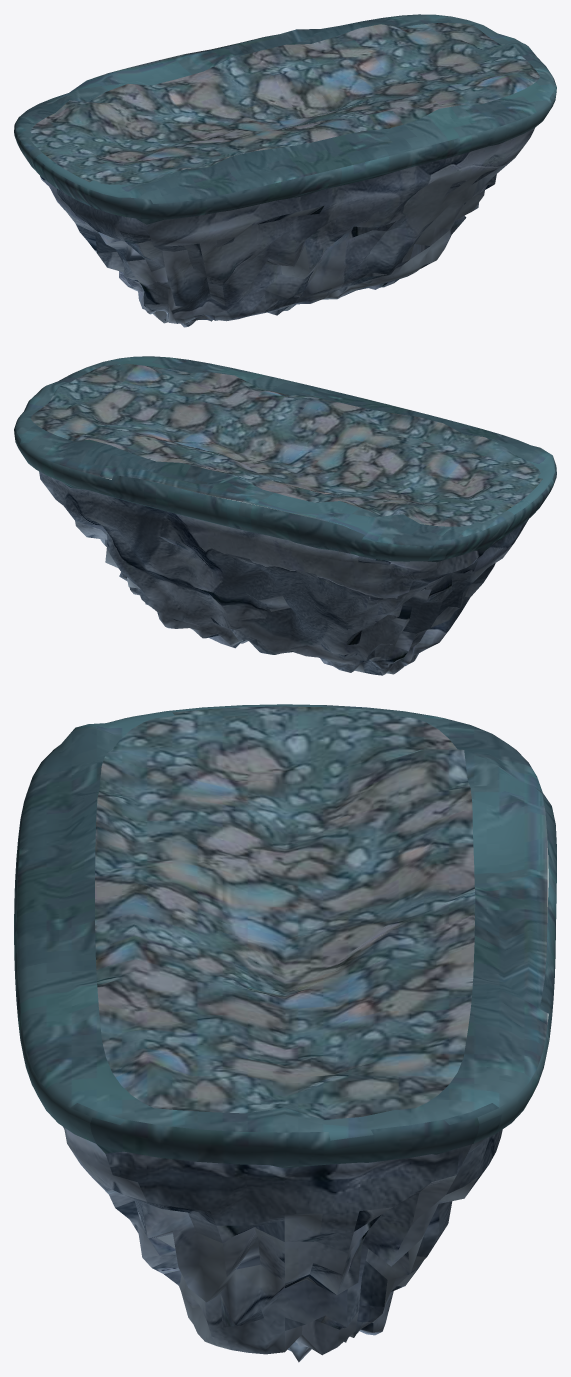
The model's file is platefomre Mouvante Blue.fbx.
The picture shows the model from 3 angles, top to bottom: view 1: azimuth 30°, elevation 25°; view 2: azimuth 150°, elevation 25°; view 3: azimuth 270°, elevation 25°; orthographic projection. The views are drawn at different scales.
Visible parts, largest first — view 1: Box001; view 2: Box001; view 3: Box001.
Boxes of the visible parts, left/top/right/bottom form: Box001: left=14, top=14, right=556, bottom=327; Box001: left=14, top=356, right=556, bottom=675; Box001: left=14, top=704, right=556, bottom=1362.
Size of the model in its own units: 4.84 by 1.99 by 2.57.
